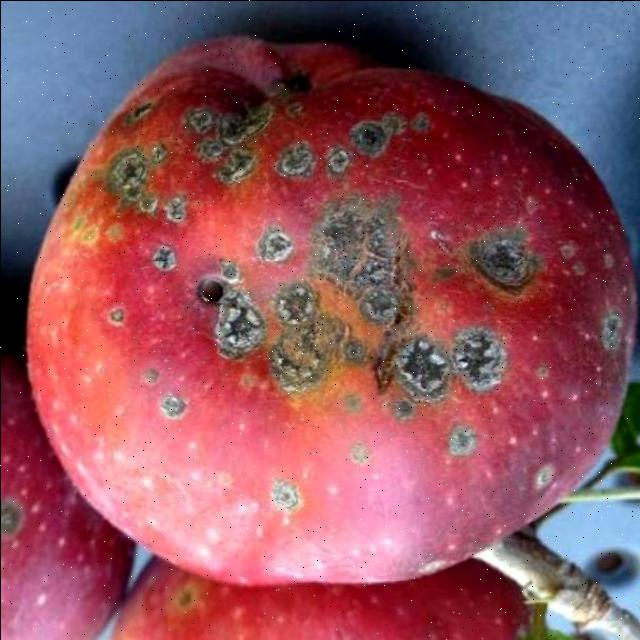SCAB: (28, 49, 612, 594)
